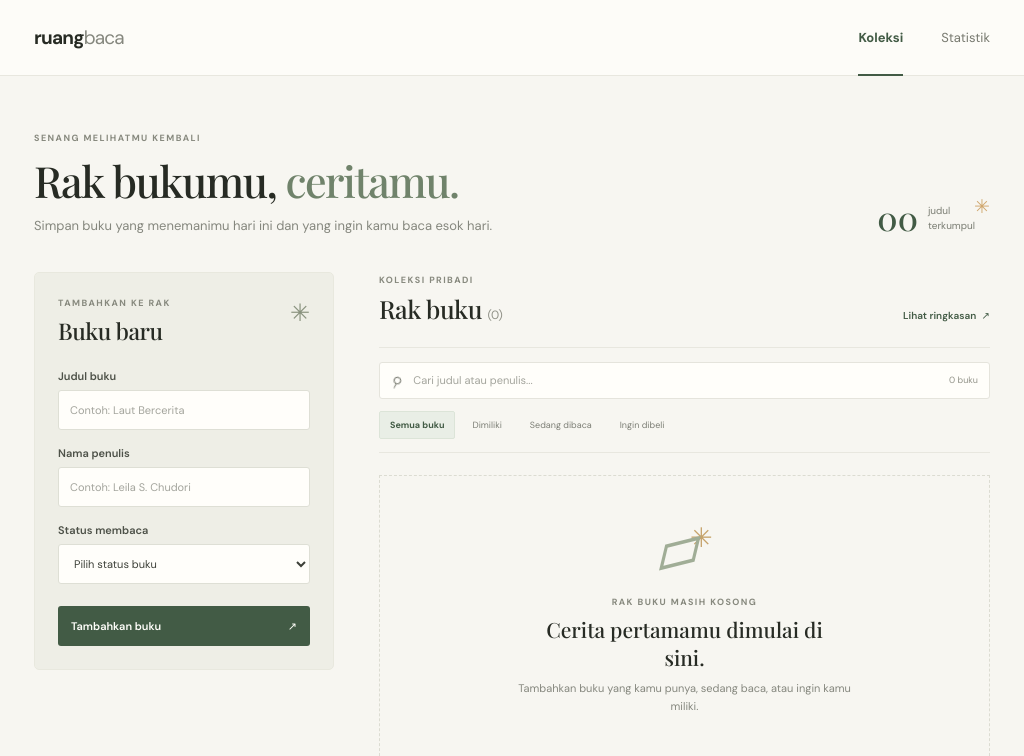
Test: Aplikasi Ruang Baca › menampilkan rekap jumlah pada halaman statistik
Step 1. Type "Laut Bercerita" into the field labelled "Judul buku" → (184, 410), box [58,390,310,430]
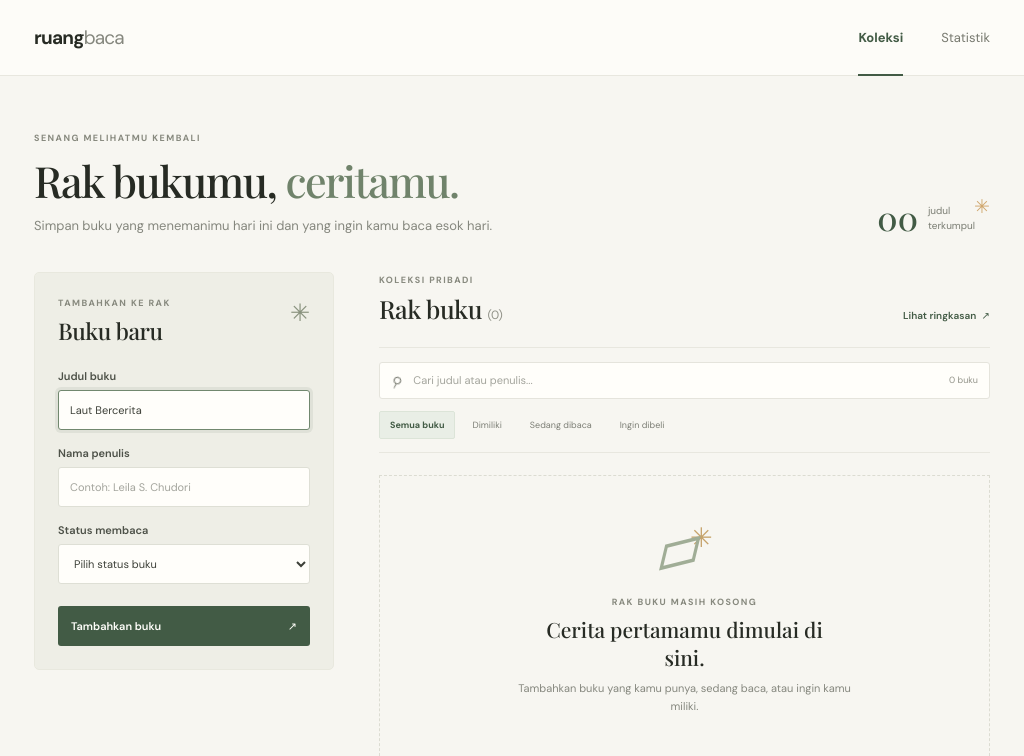
Step 2. Type "Leila S. Chudori" into the field labelled "Nama penulis" → (184, 487), box [58,467,310,507]
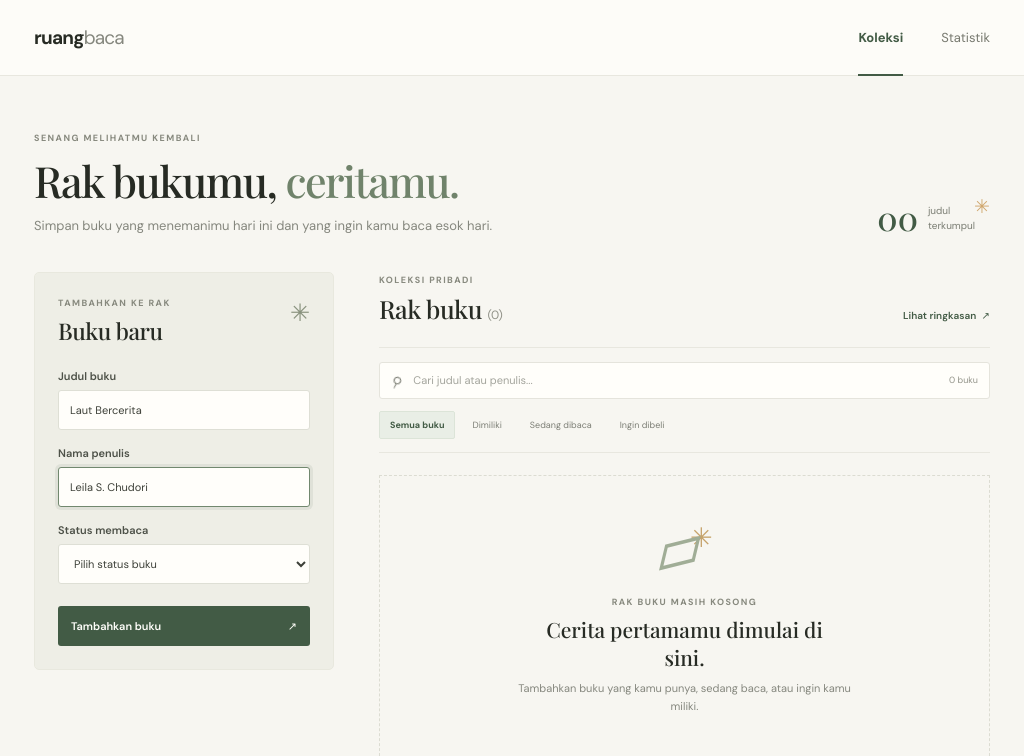
Step 3. Select "Sedang dibaca" in the dropdown labelled "Status membaca" → (184, 564), box [58,544,310,584]
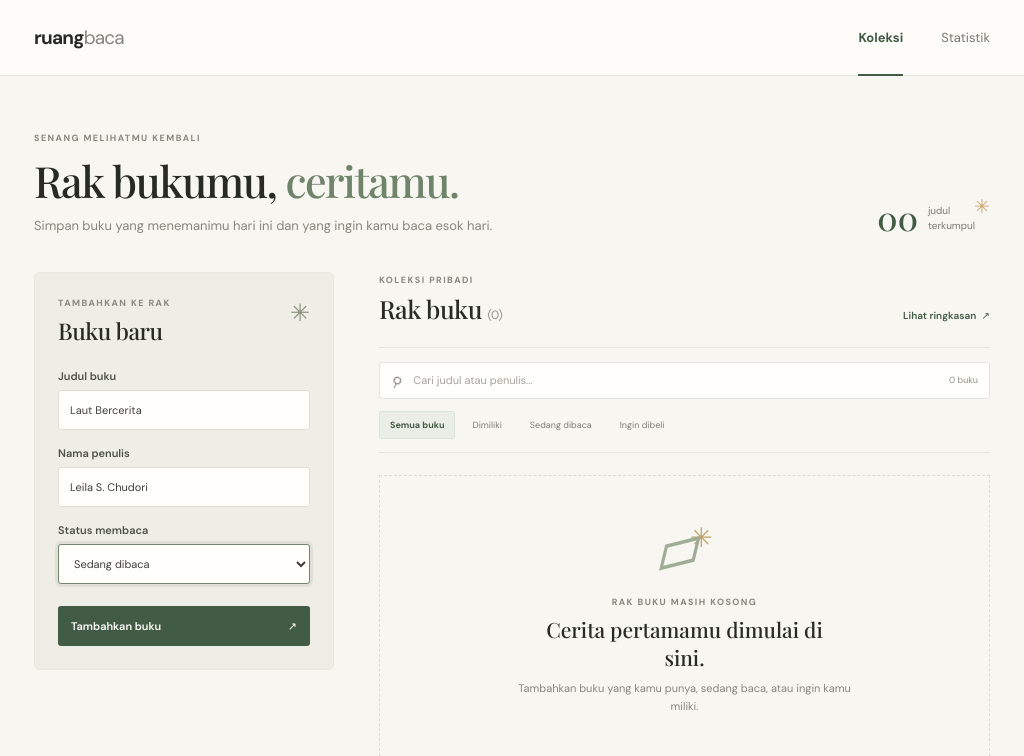
Step 4. Click the button "Tambahkan buku ↗" → (184, 626), box [58,606,310,646]
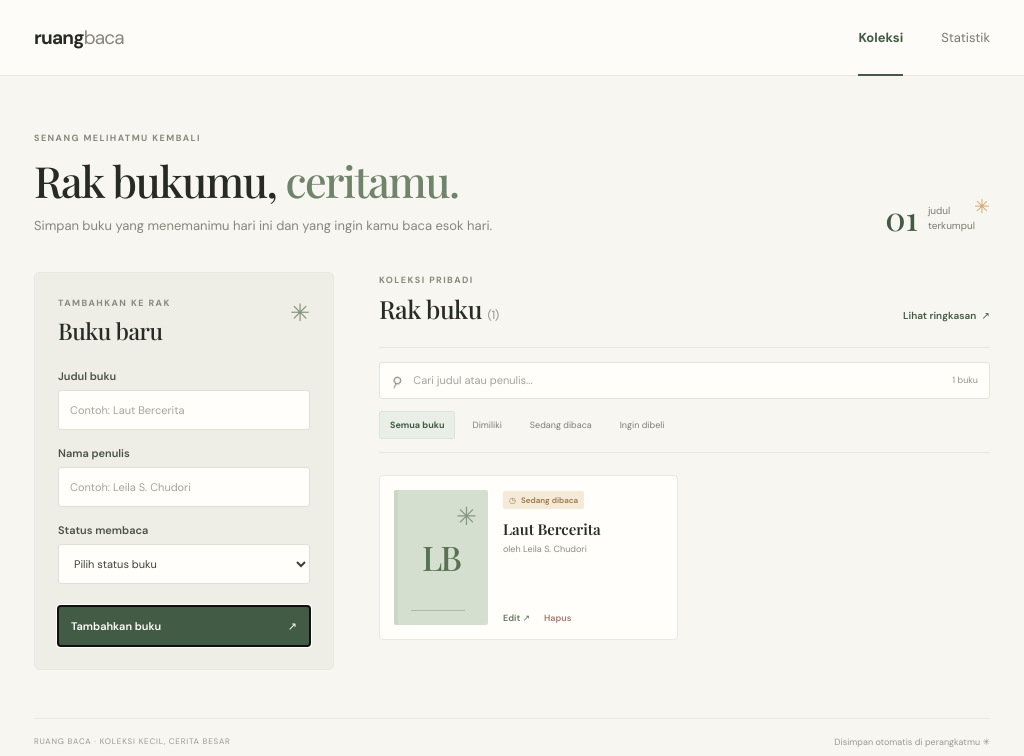
Step 5. Click the link "Statistik" → (966, 38), box [941,29,990,46]
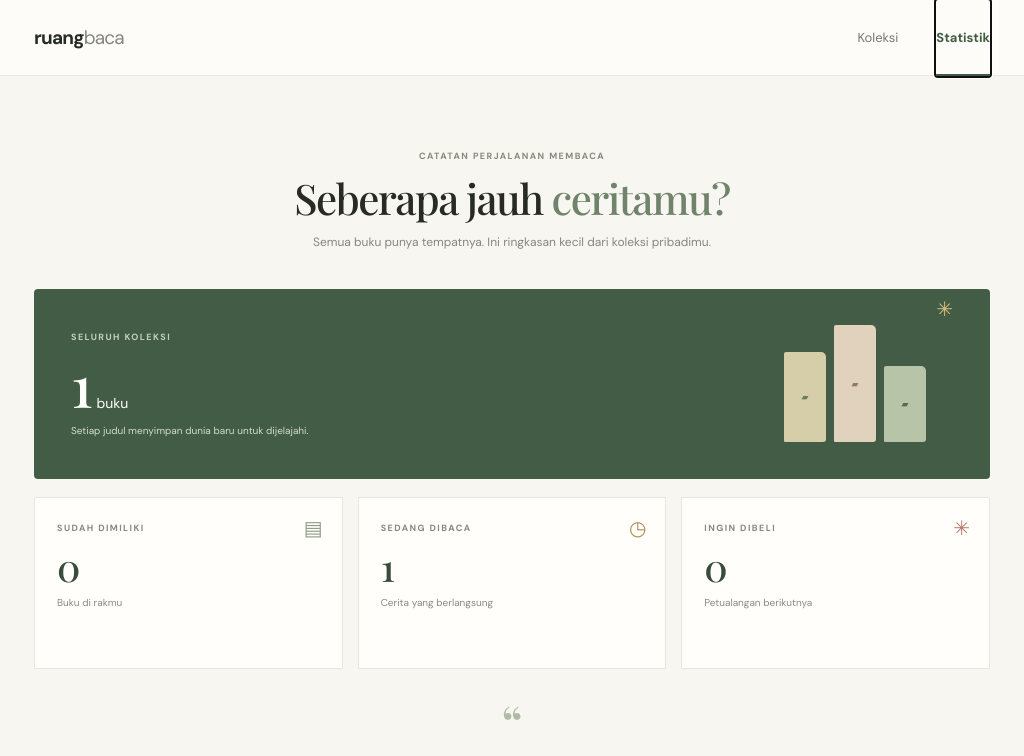
expect the text "1" is shown: met, box [381,542,395,592]
expect the element with class "stats-total-number" reads "1 buku": met, box [71,345,128,423]
